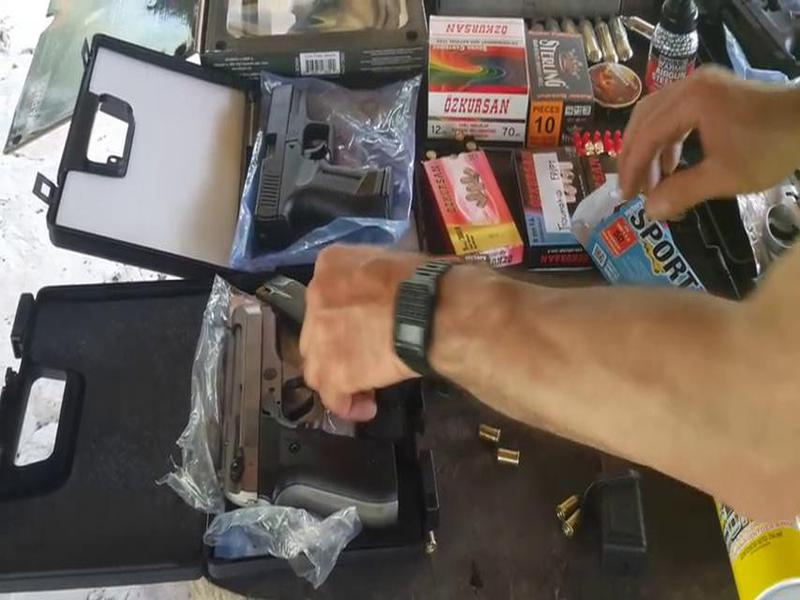Pistola: (186, 274, 413, 528), (220, 80, 411, 249)
